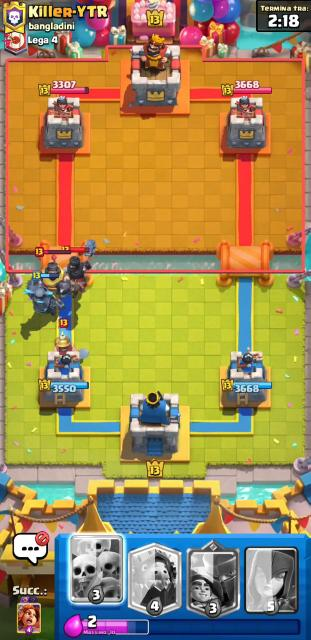ally_melee: (27, 271, 65, 318)
enemy_melee: (34, 246, 70, 307), (62, 244, 91, 292), (55, 318, 77, 353)
